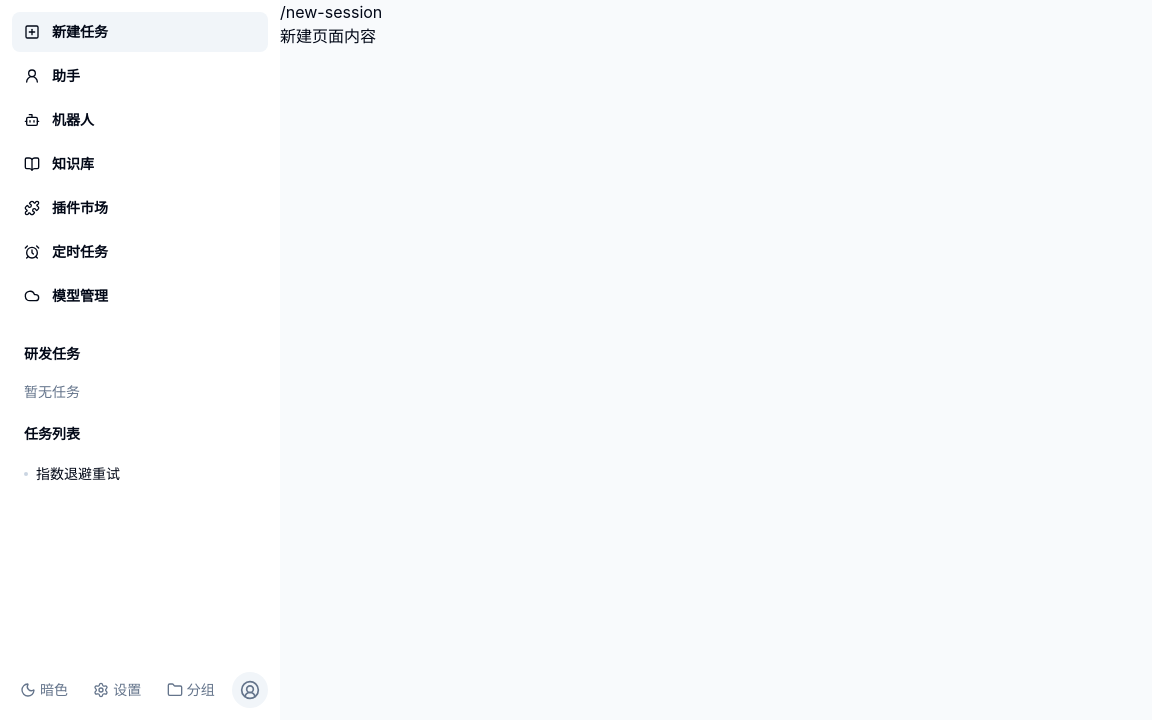
Test: WorkspaceLayout › toggles the color scheme like guada and persists the preference
Click the button "暗色" at (44, 690), box [12, 674, 76, 706]
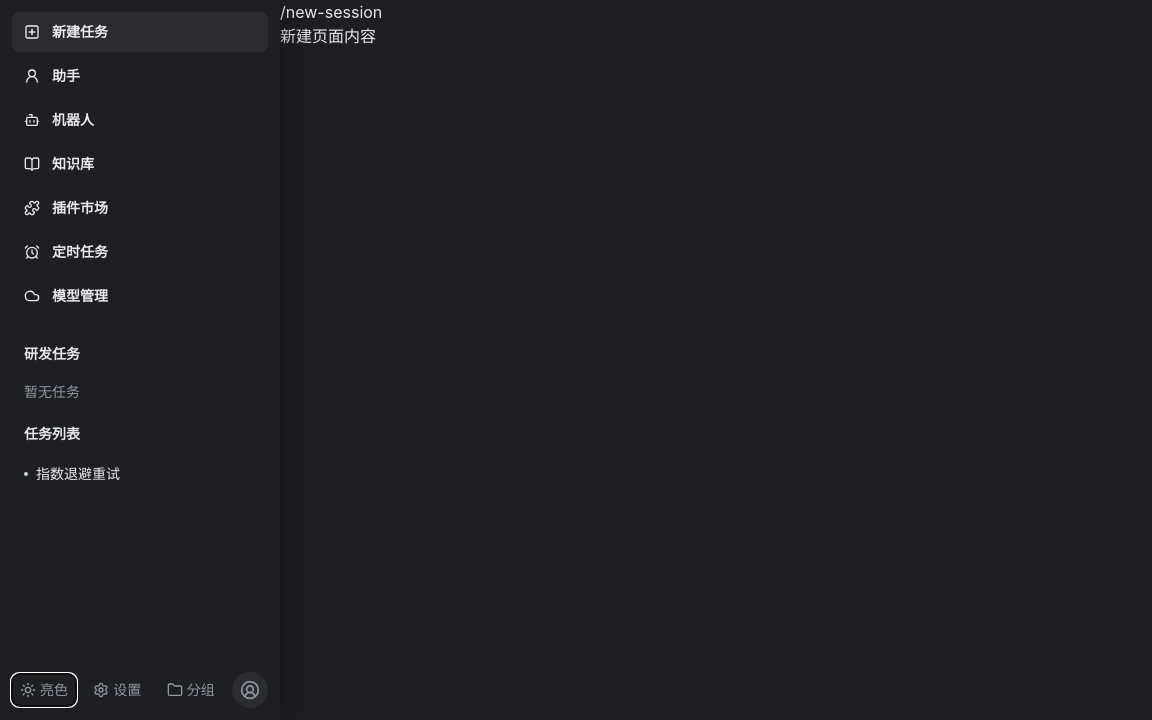
Check: the button "亮色" is shown
Click the button "亮色" at (44, 690), box [12, 674, 76, 706]
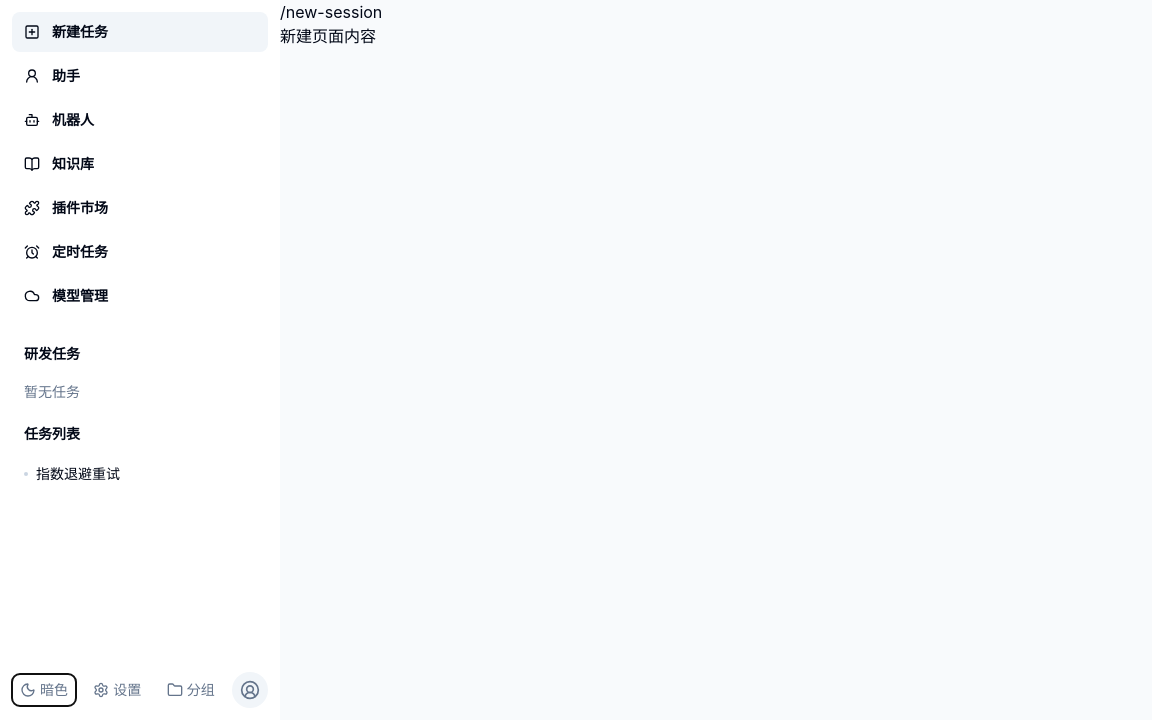
Check: the button "暗色" is shown, box [12, 674, 76, 706]
